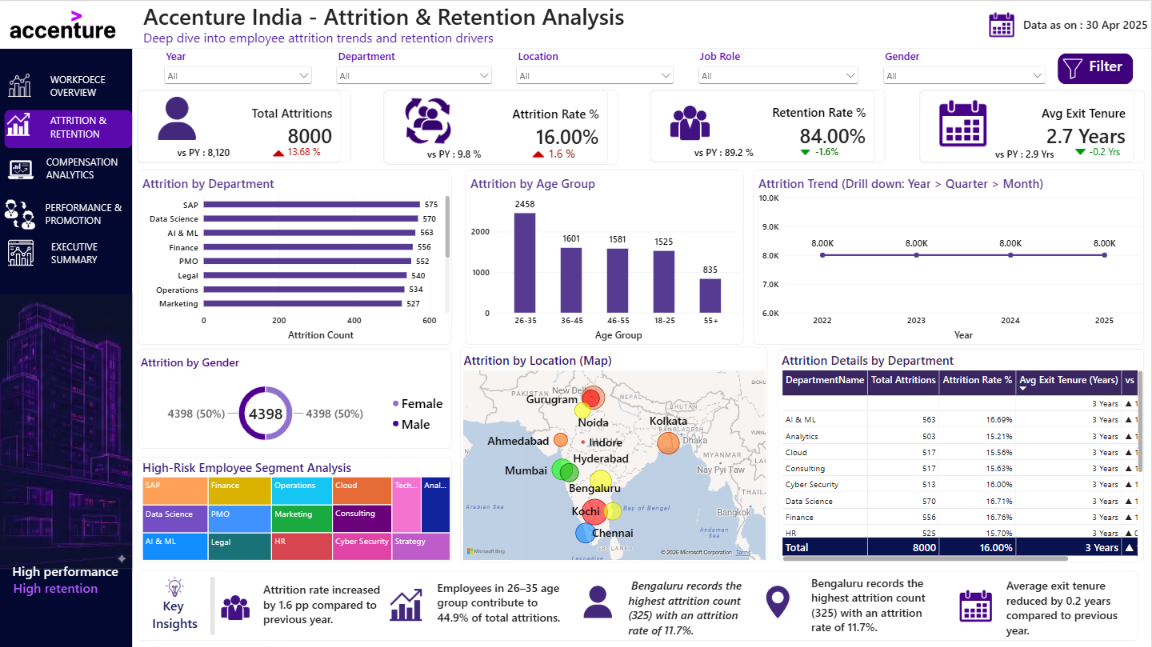

The page's visual inventory and layout, read from the dashboard file:
{"tool":"powerbi","page":{"name":"Attrition & Retention","canvas":[1920,1080],"ordinal":1},"visuals":[{"type":"group","id":"g1","title":"base","box":[0,0,1919.7,1080.3],"z":0},{"type":"shape","box":[0,0,1920,80],"z":0,"group":"g1"},{"type":"image","box":[16.9,13.8,178.5,52.3],"z":0,"group":"g4"},{"type":"slicer","fields":{"Values":["DimDate.Year"]},"box":[269.7,80.3,256.1,63.6],"z":0,"group":"g12"},{"type":"shape","box":[1764.3,85.1,127.4,53.2],"z":0,"group":"g15"},{"type":"group","id":"g2","title":"Button","box":[6.7,109.2,215.4,346.5],"z":0,"group":"g9"},{"type":"actionButton","title":"Button 1","box":[7,109.2,213.7,64],"z":0,"group":"g2"},{"type":"image","box":[9.1,122.7,50.7,38.4],"z":0,"group":"g5"},{"type":"cardVisual","fields":{"Data":["Measure Table.Total Attritions"]},"box":[230.3,148.9,356.1,122.7],"z":0,"group":"g3"},{"type":"group","id":"g3","title":"kpi 1","box":[230.3,148.9,354.5,122.7],"z":0,"group":"g17"},{"type":"cardVisual","fields":{"Data":["Measure Table.Attrition Rate %"]},"box":[640.7,148.9,391.3,124.6],"z":0,"group":"g6"},{"type":"cardVisual","fields":{"Data":["Measure Table.Retention Rate %"]},"box":[1084.9,148.9,391.3,121.6],"z":0,"group":"g10"},{"type":"cardVisual","fields":{"Data":["Measure Table.Avg Exit Tenure (Years)"]},"box":[1532.8,148.9,375.8,122.7],"z":0,"group":"g13"},{"type":"image","box":[9.1,188.1,46.1,38.4],"z":0,"group":"g7"},{"type":"image","box":[9.1,259.4,55.3,46.1],"z":0,"group":"g14"},{"type":"image","box":[9.1,331.4,52.3,52.3],"z":0,"group":"g16"},{"type":"image","box":[9.1,399.1,55.3,43],"z":0,"group":"g11"},{"type":"image","box":[0,456.1,221.2,522.7],"z":0,"group":"g8"},{"type":"group","id":"g4","title":"header section","box":[16.9,0,1903.1,80],"z":1000},{"type":"textbox","box":[240,0,849.2,52.3],"z":1000,"group":"g4"},{"type":"shape","box":[0,80,221.5,1000],"z":1000,"group":"g1"},{"type":"image","box":[1764.3,95.8,52.4,33.5],"z":1000,"group":"g15"},{"type":"group","id":"g5","title":"PAGE 1","box":[9.1,120.7,195.8,56.7],"z":1000,"group":"g9"},{"type":"textbox","box":[85.7,120.7,119.2,56.7],"z":1000,"group":"g5"},{"type":"image","box":[676.3,161,78.6,79.4],"z":1000,"group":"g6"},{"type":"image","box":[247.5,161.2,99.5,72.1],"z":1000,"group":"g3"},{"type":"image","box":[1558.1,165.2,95.6,78.6],"z":1000,"group":"g13"},{"type":"image","box":[1103.9,166.8,95.5,65.3],"z":1000,"group":"g10"},{"type":"actionButton","title":"Button 2","box":[8.4,181.7,213.7,64],"z":1000,"group":"g2"},{"type":"textbox","box":[85.8,190.3,119.2,56.7],"z":1000,"group":"g7"},{"type":"textbox","box":[79.8,257.7,141.4,63],"z":1000,"group":"g14"},{"type":"textbox","box":[78.2,334.6,138.4,53.8],"z":1000,"group":"g16"},{"type":"textbox","box":[87.8,399.4,119.2,56.7],"z":1000,"group":"g11"},{"type":"textbox","box":[21.2,934.8,195.5,33.3],"z":1000,"group":"g8"},{"type":"textbox","box":[240,46.2,784.6,33.8],"z":2000,"group":"g4"},{"type":"slicer","fields":{"Values":["DimDepartment.DepartmentName"]},"box":[556.5,80.3,269.7,60.6],"z":2000,"group":"g12"},{"type":"textbox","box":[1816.8,91.2,62.9,36.5],"z":2000,"group":"g15"},{"type":"group","id":"g6","title":"kpi 3","box":[640.7,148.9,389.4,124.2],"z":2000,"group":"g17"},{"type":"group","id":"g7","title":"PAGE 2","box":[9.1,188.1,196,58.9],"z":2000,"group":"g9"},{"type":"textbox","box":[1158.5,241.6,159.9,25.8],"z":2000,"group":"g10"},{"type":"textbox","box":[297.3,242.5,145.5,26.1],"z":2000,"group":"g3"},{"type":"textbox","box":[1659.1,243.7,131,22.7],"z":2000,"group":"g13"},{"type":"textbox","box":[714.3,243.9,159.9,26.5],"z":2000,"group":"g6"},{"type":"actionButton","title":"Button 3","box":[6.7,250,213.7,64],"z":2000,"group":"g2"},{"type":"group","id":"g8","title":"left side pic","box":[0,456.1,221.2,539.4],"z":2000},{"type":"textbox","box":[22.7,962.2,178.8,33.3],"z":2000,"group":"g8"},{"type":"actionButton","box":[1757.5,82.6,130.2,55.2],"z":2500,"group":"g15"},{"type":"image","box":[1650.7,18.5,41.5,43.1],"z":3000,"group":"g4"},{"type":"group","id":"g9","title":"pages","box":[6.7,109.2,215.4,346.8],"z":3000},{"type":"group","id":"g10","title":"kpi 4","box":[1084.9,148.9,390.9,121.2],"z":3000,"group":"g17"},{"type":"image","box":[1326.8,244.6,33.7,18.2],"z":3000,"group":"g10"},{"type":"image","box":[450.4,245.5,30.6,18.4],"z":3000,"group":"g3"},{"type":"image","box":[882.6,247,33.7,18.7],"z":3000,"group":"g6"},{"type":"actionButton","title":"Button 4","box":[6.7,320,213.7,64],"z":3000,"group":"g2"},{"type":"group","id":"g11","title":"PAGE 5","box":[9.1,399.1,197.9,57],"z":3000,"group":"g9"},{"type":"textbox","box":[1706.1,26.2,213.8,30.8],"z":4000,"group":"g4"},{"type":"group","id":"g12","title":"slicer","box":[269.7,80.3,1478.8,63.6],"z":4000},{"type":"slicer","fields":{"Values":["DimLocation.City"]},"box":[856.9,80.3,272.7,60.6],"z":4000,"group":"g12"},{"type":"group","id":"g13","title":"kpi 4","box":[1532.8,148.9,375.8,122.7],"z":4000,"group":"g17"},{"type":"textbox","box":[1360.5,240.1,77.8,25.8],"z":4000,"group":"g10"},{"type":"textbox","box":[481.1,240.9,70.8,26.1],"z":4000,"group":"g3"},{"type":"textbox","box":[916.3,242.3,77.8,26.5],"z":4000,"group":"g6"},{"type":"group","id":"g14","title":"PAGE 3","box":[9.1,257.7,212.2,63],"z":4000,"group":"g9"},{"type":"actionButton","title":"Button 5","box":[6.7,391.7,213.7,64],"z":4000,"group":"g2"},{"type":"slicer","fields":{"Values":["DimJobLevel.JobLevel"]},"box":[1160.4,80.3,277.3,60.6],"z":5000,"group":"g12"},{"type":"group","id":"g15","title":"filter","box":[1757.5,82.6,134.2,55.7],"z":5000},{"type":"group","id":"g16","title":"PAGE 4","box":[9.1,331.4,207.4,57],"z":5000,"group":"g9"},{"type":"slicer","fields":{"Values":["DimEmployee.Gender"]},"box":[1468.4,80.3,280.3,59.1],"z":6000,"group":"g12"},{"type":"group","id":"g17","title":"KPI","box":[230.3,148.9,1678.3,124.2],"z":6000},{"type":"image","box":[1789.4,242.4,24.2,19.7],"z":7000},{"type":"textbox","box":[1816.7,239.4,62.1,25.8],"z":8000},{"type":"clusteredBarChart","title":"Attrition by Department","fields":{"Category":["DimDepartment.DepartmentName"],"Y":["Measure Table.Total Attritions"]},"box":[230.3,281.8,524.2,290.9],"z":9000},{"type":"clusteredColumnChart","title":"Attrition by Age Group","fields":{"Category":["FactAttrition.Age Group"],"Y":["Measure Table.Total Attritions"]},"box":[777.3,281.8,463.6,290.9],"z":10000},{"type":"lineChart","title":"Attrition Trend (Drill down: Year > Quarter > Month)","fields":{"Category":["DimDate.Year","DimDate.Quarter","DimDate.Month"],"Y":["Measure Table.Total Attritions"]},"box":[1256.9,281.5,651.5,290.9],"z":11000},{"type":"donutChart","title":"Attrition by Gender","fields":{"Category":["DimEmployee.Gender"],"Y":["Measure Table.Total Attritions"]},"box":[230.8,580,524.6,166.2],"z":12000},{"type":"treemap","title":"High-Risk Employee Segment Analysis","fields":{"Group":["DimDepartment.DepartmentName"],"Values":["Measure Table.Total Attritions"]},"box":[230.8,760,524.6,175.4],"z":13000},{"type":"map","title":"Attrition by Location (Map)","fields":{"Category":["DimLocation.City"],"Size":["Measure Table.Total Attritions"]},"box":[767.7,576.9,512.3,358.5],"z":14000},{"type":"tableEx","title":"Attrition Details by Department","fields":{"Values":["DimDepartment.DepartmentName","Measure Table.Total Attritions","Measure Table.Attrition Rate %","Measure Table.Avg Exit Tenure (Years)","Measure Table.vs PY Attrition Rate %"]},"box":[1298.5,580,609.2,355.4],"z":15000},{"type":"shape","box":[230.8,950.8,1667.7,116.9],"z":16000},{"type":"group","id":"g18","title":"Group 1","box":[243.1,958.5,123.1,107.7],"z":17000},{"type":"image","box":[272.3,958.5,38.5,36.9],"z":17000,"group":"g18"},{"type":"group","id":"g19","title":"Group 2","box":[370.8,968.2,274.2,89.2],"z":18000},{"type":"image","box":[969.2,975.4,55.4,53.8],"z":18000,"group":"g21"},{"type":"image","box":[1270.8,975.4,55.4,53.8],"z":18000,"group":"g22"},{"type":"image","box":[650.8,978.8,55.4,53.8],"z":18000,"group":"g20"},{"type":"image","box":[1600,980.8,55.4,53.8],"z":18000,"group":"g23"},{"type":"image","box":[370.8,981.6,47.6,53.8],"z":18000,"group":"g19"},{"type":"textbox","box":[243.1,993.9,123.1,72.3],"z":18000,"group":"g18"},{"type":"textbox","box":[1354.2,957.5,207.7,101.5],"z":19000,"group":"g22"},{"type":"shape","box":[350.7,960.9,7.7,96.9],"z":19000,"group":"g18"},{"type":"textbox","box":[1678.5,961.4,204.6,107.7],"z":19000,"group":"g23"},{"type":"textbox","box":[1047.3,961.9,198.5,104.6],"z":19000,"group":"g21"},{"type":"group","id":"g20","title":"Group 2","box":[650.8,964.6,286.2,89.2],"z":19000},{"type":"textbox","box":[730.6,964.6,206.2,89.2],"z":19000,"group":"g20"},{"type":"textbox","box":[440.4,968.2,204.6,89.2],"z":19000,"group":"g19"},{"type":"group","id":"g21","title":"Group 2","box":[969.2,961.9,276.6,104.6],"z":20000},{"type":"group","id":"g22","title":"Group 2","box":[1270.8,957.5,291.1,101.5],"z":21000},{"type":"group","id":"g23","title":"Group 2","box":[1600,961.4,283.1,107.7],"z":22000}]}

Visuals, with their boxes on the page's 1920x1080 design canvas (x1, y1, x2, y2). These are canvas units, not pixel positions in the 1152x647 screenshot, which may show the page scaled, cropped or inside an application window:
"base" group: Rect(0, 0, 1920, 1080)
shape: Rect(0, 0, 1920, 80)
image: Rect(17, 14, 195, 66)
slicer - DimDate.Year: Rect(270, 80, 526, 144)
shape: Rect(1764, 85, 1892, 138)
"Button" group: Rect(7, 109, 222, 456)
"Button 1" actionButton: Rect(7, 109, 221, 173)
image: Rect(9, 123, 60, 161)
cardVisual - Measure Table.Total Attritions: Rect(230, 149, 586, 272)
"kpi 1" group: Rect(230, 149, 585, 272)
cardVisual - Measure Table.Attrition Rate %: Rect(641, 149, 1032, 274)
cardVisual - Measure Table.Retention Rate %: Rect(1085, 149, 1476, 270)
cardVisual - Measure Table.Avg Exit Tenure (Years): Rect(1533, 149, 1909, 272)
image: Rect(9, 188, 55, 226)
image: Rect(9, 259, 64, 306)
image: Rect(9, 331, 61, 384)
image: Rect(9, 399, 64, 442)
image: Rect(0, 456, 221, 979)
"header section" group: Rect(17, 0, 1920, 80)
textbox: Rect(240, 0, 1089, 52)
shape: Rect(0, 80, 222, 1080)
image: Rect(1764, 96, 1817, 129)
"PAGE 1" group: Rect(9, 121, 205, 177)
textbox: Rect(86, 121, 205, 177)
image: Rect(676, 161, 755, 240)
image: Rect(248, 161, 347, 233)
image: Rect(1558, 165, 1654, 244)
image: Rect(1104, 167, 1199, 232)
"Button 2" actionButton: Rect(8, 182, 222, 246)
textbox: Rect(86, 190, 205, 247)
textbox: Rect(80, 258, 221, 321)
textbox: Rect(78, 335, 217, 388)
textbox: Rect(88, 399, 207, 456)
textbox: Rect(21, 935, 217, 968)
textbox: Rect(240, 46, 1025, 80)
slicer - DimDepartment.DepartmentName: Rect(556, 80, 826, 141)
textbox: Rect(1817, 91, 1880, 128)
"kpi 3" group: Rect(641, 149, 1030, 273)
"PAGE 2" group: Rect(9, 188, 205, 247)
textbox: Rect(1158, 242, 1318, 267)
textbox: Rect(297, 242, 443, 269)
textbox: Rect(1659, 244, 1790, 266)
textbox: Rect(714, 244, 874, 270)
"Button 3" actionButton: Rect(7, 250, 220, 314)
"left side pic" group: Rect(0, 456, 221, 996)
textbox: Rect(23, 962, 202, 996)
actionButton: Rect(1758, 83, 1888, 138)
image: Rect(1651, 18, 1692, 62)
"pages" group: Rect(7, 109, 222, 456)
"kpi 4" group: Rect(1085, 149, 1476, 270)
image: Rect(1327, 245, 1360, 263)
image: Rect(450, 246, 481, 264)
image: Rect(883, 247, 916, 266)
"Button 4" actionButton: Rect(7, 320, 220, 384)
"PAGE 5" group: Rect(9, 399, 207, 456)
textbox: Rect(1706, 26, 1920, 57)
"slicer" group: Rect(270, 80, 1748, 144)
slicer - DimLocation.City: Rect(857, 80, 1130, 141)
"kpi 4" group: Rect(1533, 149, 1909, 272)
textbox: Rect(1360, 240, 1438, 266)
textbox: Rect(481, 241, 552, 267)
textbox: Rect(916, 242, 994, 269)
"PAGE 3" group: Rect(9, 258, 221, 321)
"Button 5" actionButton: Rect(7, 392, 220, 456)
slicer - DimJobLevel.JobLevel: Rect(1160, 80, 1438, 141)
"filter" group: Rect(1758, 83, 1892, 138)
"PAGE 4" group: Rect(9, 331, 216, 388)
slicer - DimEmployee.Gender: Rect(1468, 80, 1749, 139)
"KPI" group: Rect(230, 149, 1909, 273)
image: Rect(1789, 242, 1814, 262)
textbox: Rect(1817, 239, 1879, 265)
"Attrition by Department" clusteredBarChart: Rect(230, 282, 754, 573)
"Attrition by Age Group" clusteredColumnChart: Rect(777, 282, 1241, 573)
"Attrition Trend (Drill down: Year > Quarter > Month)" lineChart: Rect(1257, 282, 1908, 572)
"Attrition by Gender" donutChart: Rect(231, 580, 755, 746)
"High-Risk Employee Segment Analysis" treemap: Rect(231, 760, 755, 935)
"Attrition by Location (Map)" map: Rect(768, 577, 1280, 935)
"Attrition Details by Department" tableEx: Rect(1298, 580, 1908, 935)
shape: Rect(231, 951, 1898, 1068)
"Group 1" group: Rect(243, 958, 366, 1066)
image: Rect(272, 958, 311, 995)
"Group 2" group: Rect(371, 968, 645, 1057)
image: Rect(969, 975, 1025, 1029)
image: Rect(1271, 975, 1326, 1029)
image: Rect(651, 979, 706, 1033)
image: Rect(1600, 981, 1655, 1035)
image: Rect(371, 982, 418, 1035)
textbox: Rect(243, 994, 366, 1066)
textbox: Rect(1354, 958, 1562, 1059)
shape: Rect(351, 961, 358, 1058)
textbox: Rect(1678, 961, 1883, 1069)
textbox: Rect(1047, 962, 1246, 1066)
"Group 2" group: Rect(651, 965, 937, 1054)
textbox: Rect(731, 965, 937, 1054)
textbox: Rect(440, 968, 645, 1057)
"Group 2" group: Rect(969, 962, 1246, 1066)
"Group 2" group: Rect(1271, 958, 1562, 1059)
"Group 2" group: Rect(1600, 961, 1883, 1069)
